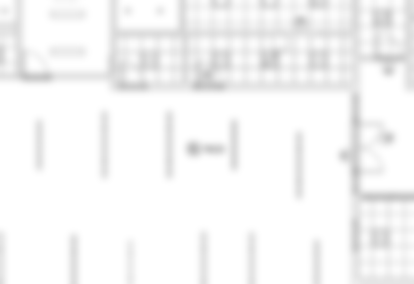door: (21, 48, 52, 80), (374, 31, 406, 61), (118, 58, 150, 87), (195, 59, 225, 87)
double door: (353, 122, 385, 173)
window: (347, 217, 363, 253), (349, 93, 364, 121), (347, 167, 363, 193)
